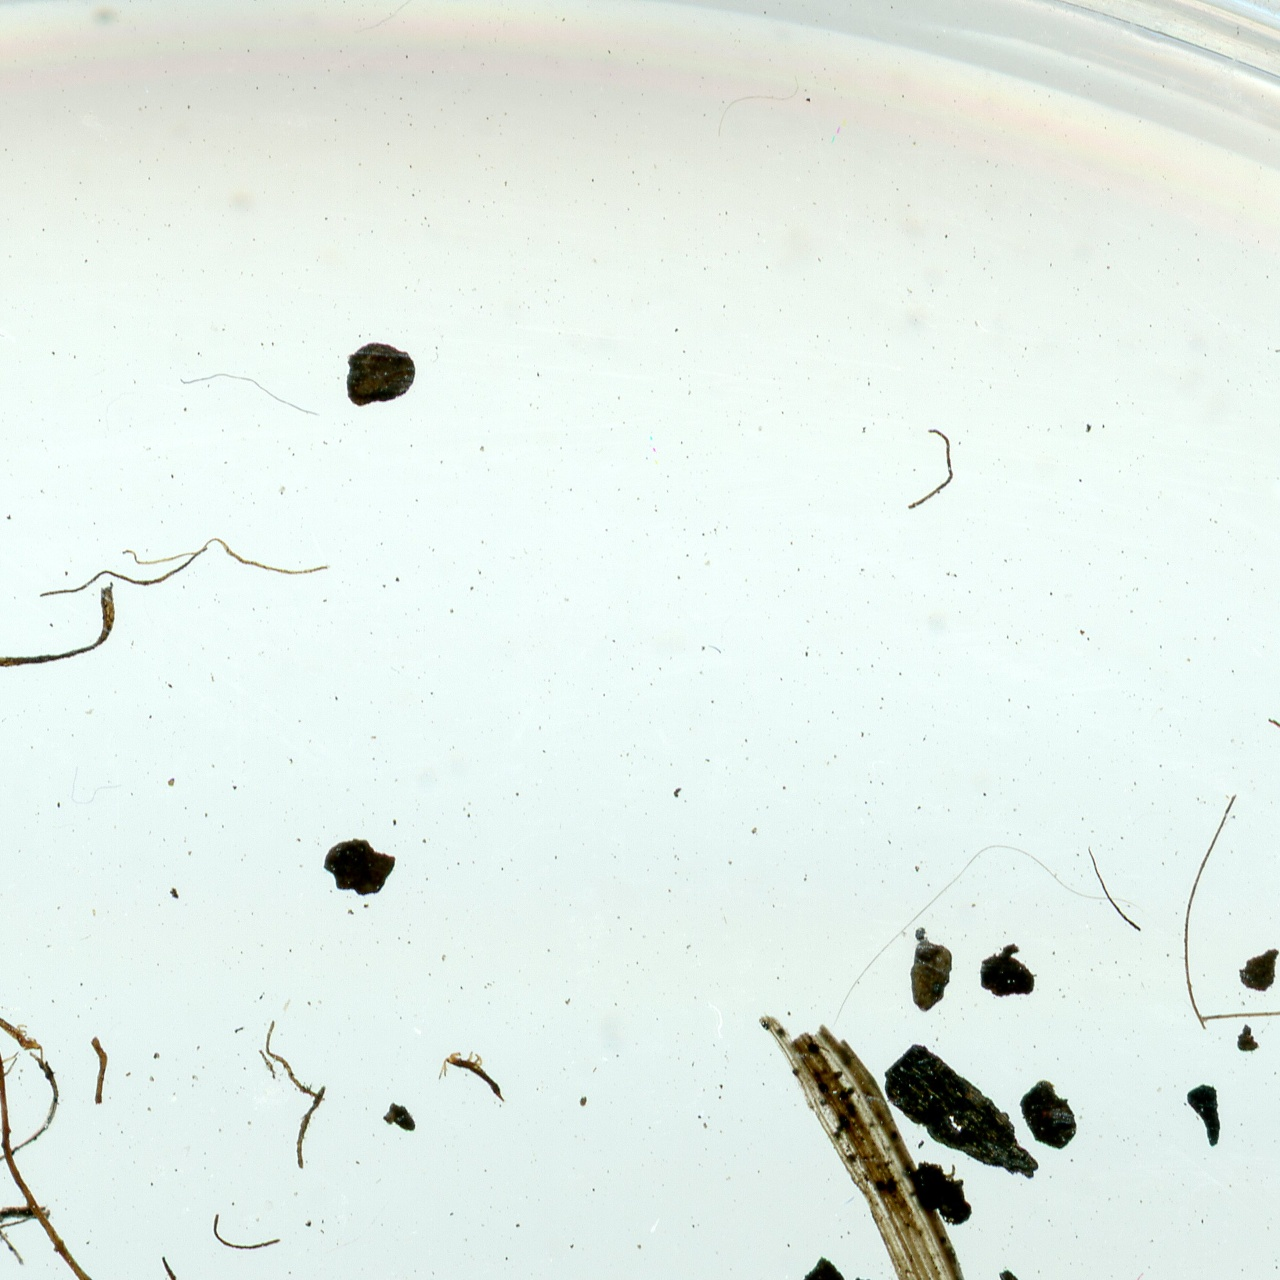arthropod: (0, 1031, 24, 1137)
